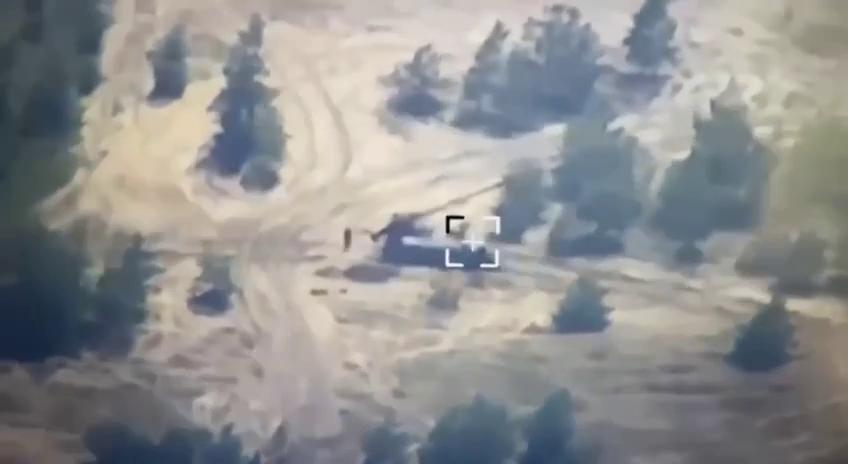tank: (369, 180, 506, 274)
